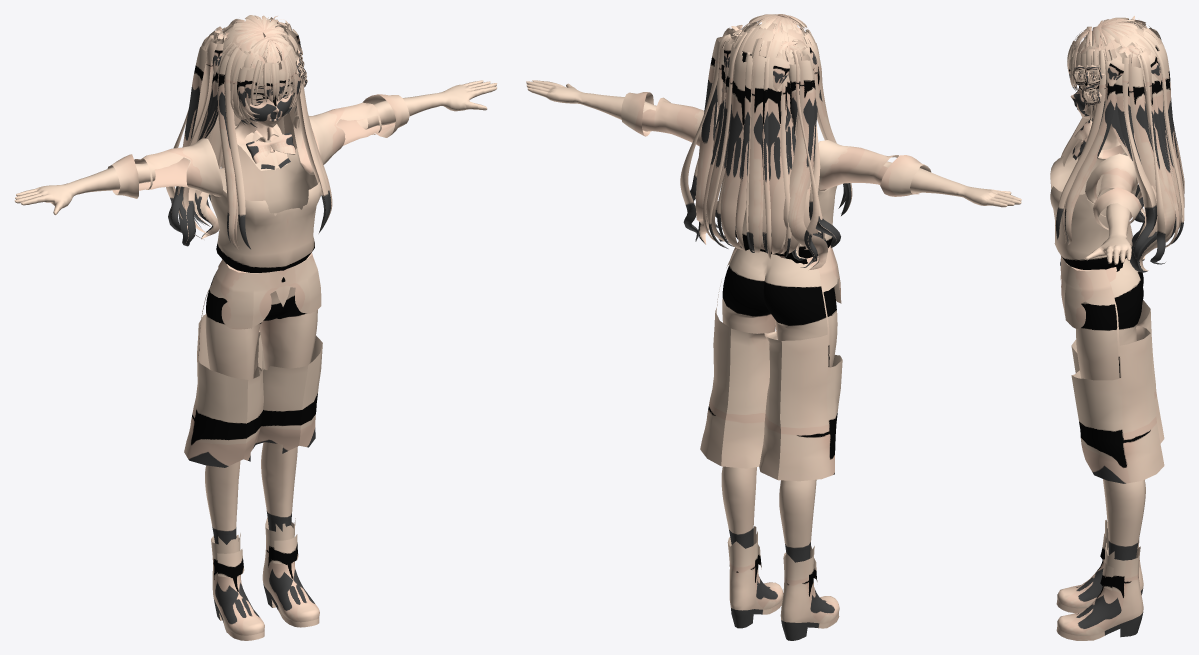
The picture shows the model from 3 angles, left to right: view 1: azimuth 30°, elevation 25°; view 2: azimuth 150°, elevation 25°; view 3: azimuth 270°, elevation 25°; orthographic projection. The views are drawn at different scales.
Visible parts, largest first — view 1: Body, Hair, Face; view 2: Body, Hair; view 3: Body, Hair, Face.
Part boxes in pixels (left/top/right/bottom): Body: left=14, top=26, right=497, bottom=640; Hair: left=166, top=15, right=332, bottom=249; Face: left=241, top=37, right=294, bottom=127; Body: left=526, top=23, right=1021, bottom=640; Hair: left=680, top=14, right=852, bottom=269; Body: left=1050, top=27, right=1164, bottom=640; Hair: left=1055, top=16, right=1184, bottom=272; Face: left=1070, top=39, right=1103, bottom=118.
Bounding box in the file's own units: 1.39 × 1.63 × 0.3323.
Materials: 21 (21 with a texture image).
